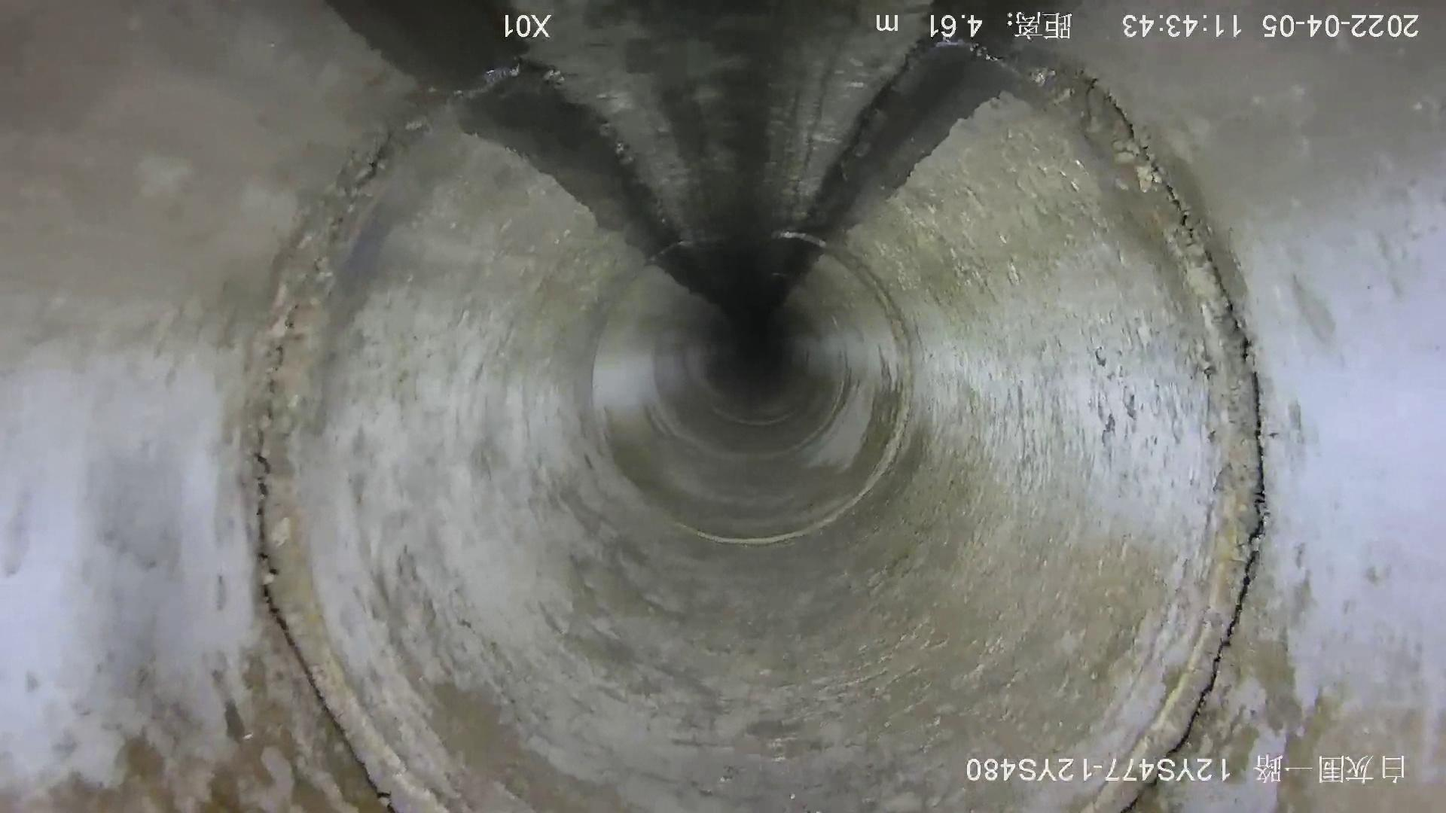CKTJ: (913, 26, 1284, 813), (242, 54, 576, 810)
